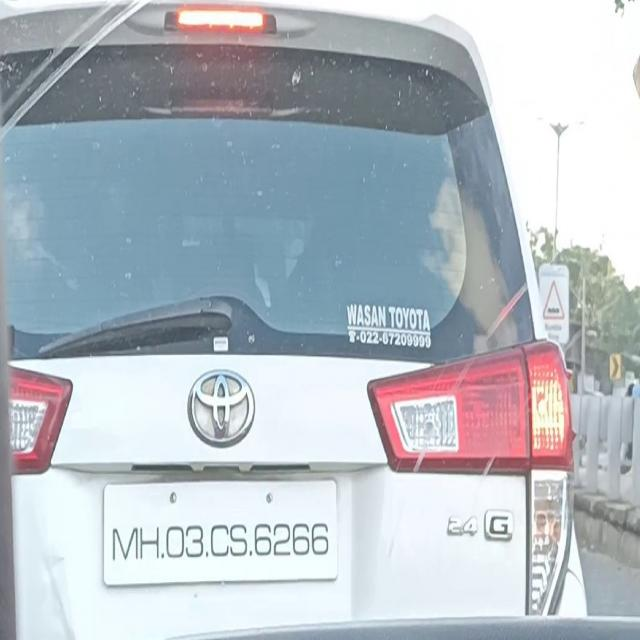Plate: (102, 477, 341, 588)
